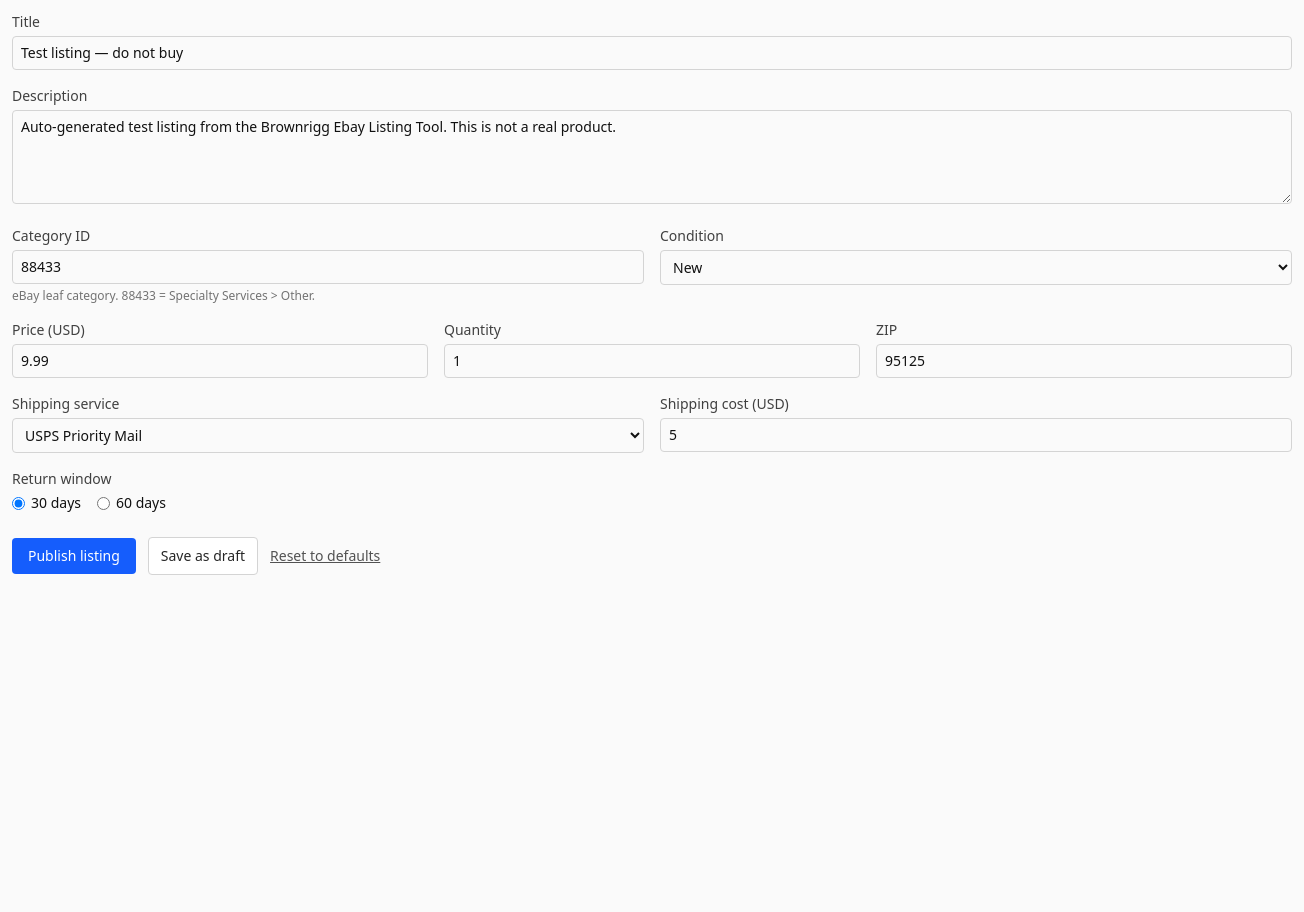
ListingForm › renders the server-error panel on a top-level {error} response
Click the button with test id "publish-button". click: (74, 556)
box: [12, 538, 136, 574]
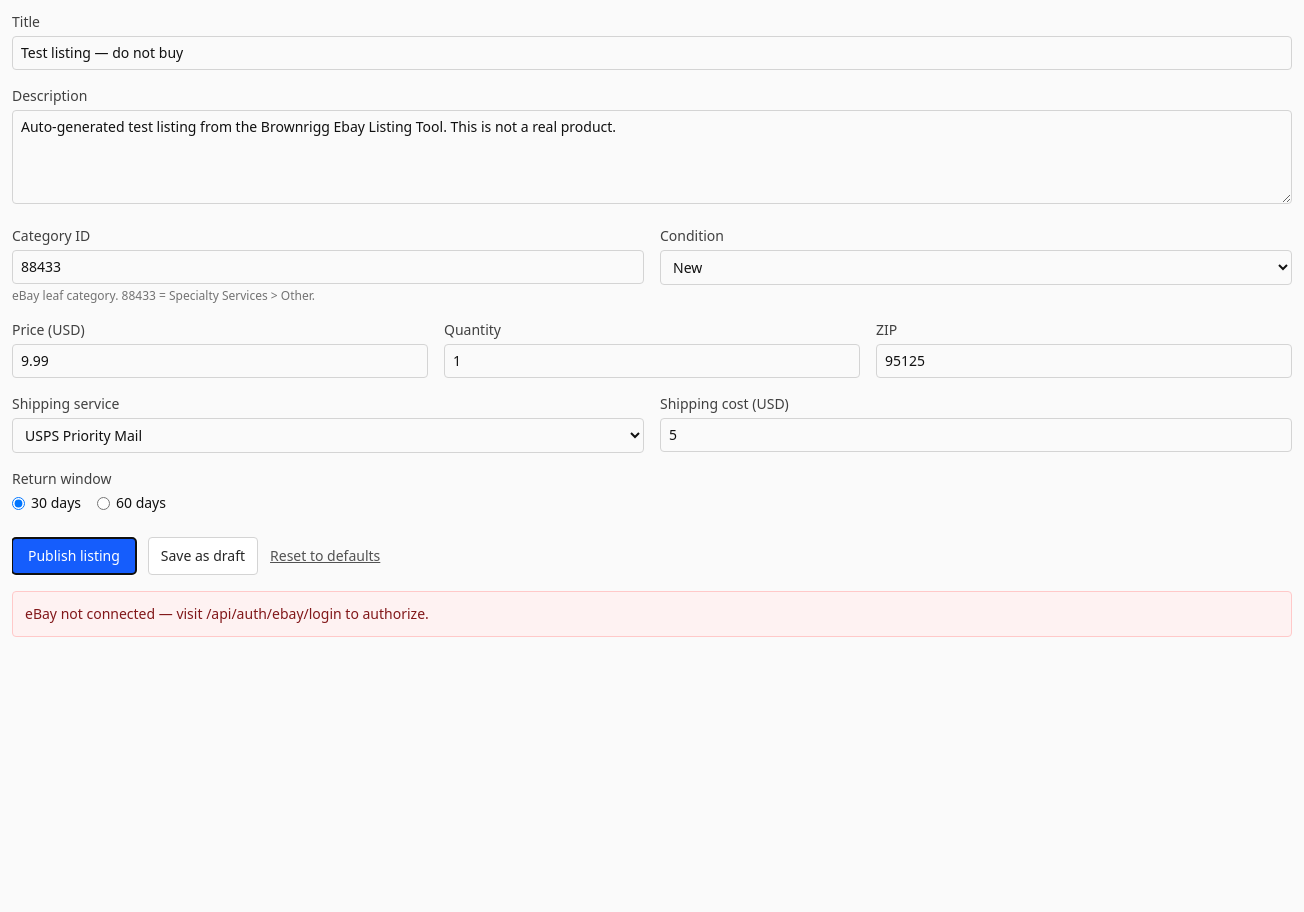
Expected: the message "eBay not connected — visit /api/auth/ebay/login to authorize." is shown, [12, 591, 1292, 637]
Expected: the message with test id "publish-server-error" shows "eBay not connected", [25, 604, 429, 623]
